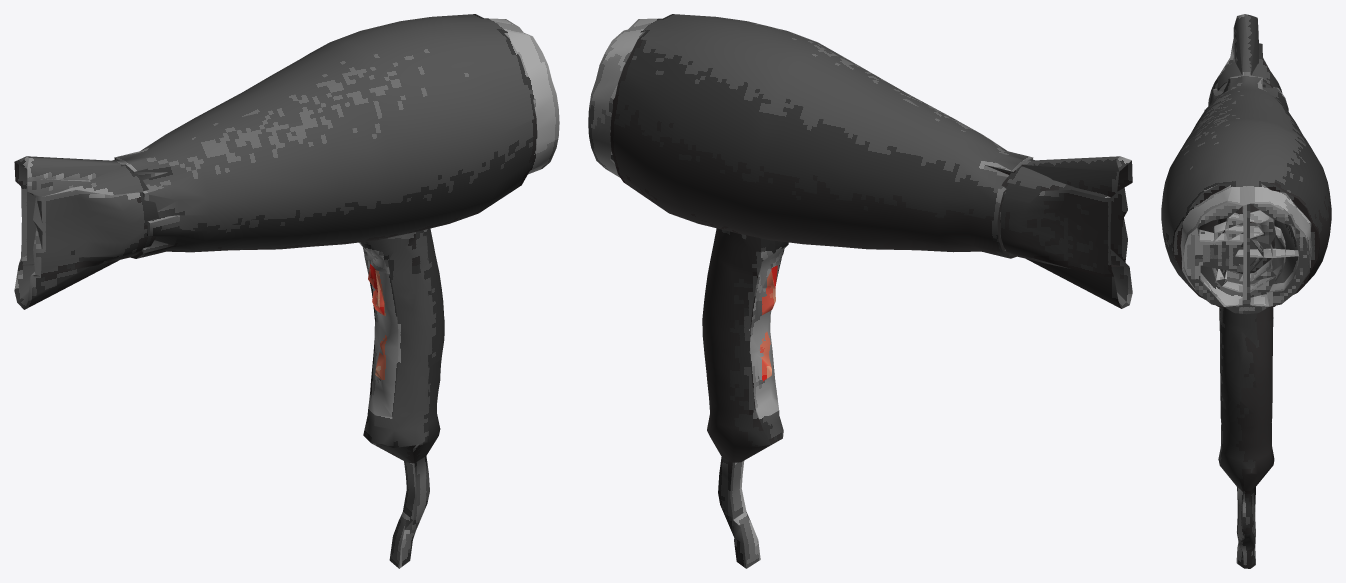
Rendered from hair_dryer.glb.
3 renders of one model, left to right at view 1: azimuth 30°, elevation 25°; view 2: azimuth 150°, elevation 25°; view 3: azimuth 270°, elevation 25°, orthographic. The views are drawn at different scales.
Visible parts, largest first — view 1: mesh; view 2: mesh; view 3: mesh.
Part boxes in pixels (x1=…): mesh: x1=14, y1=14, x2=559, y2=568; mesh: x1=588, y1=14, x2=1132, y2=568; mesh: x1=1161, y1=14, x2=1331, y2=568.
Size of the model in its own units: 0.2471 by 0.25 by 0.0892.
Materials: 1 (1 with a texture image).
